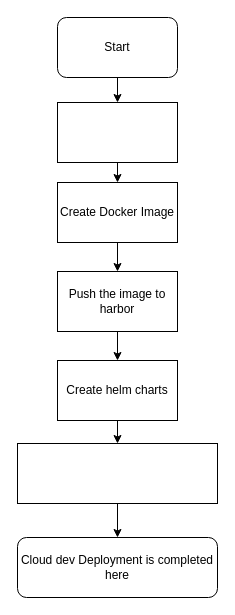
This 235x615 diagram has some shape labels left out. Each missing label, with the centre of its shape:
Create helm release: pixel 117 473
Write the application using prog language: pixel 117 132
